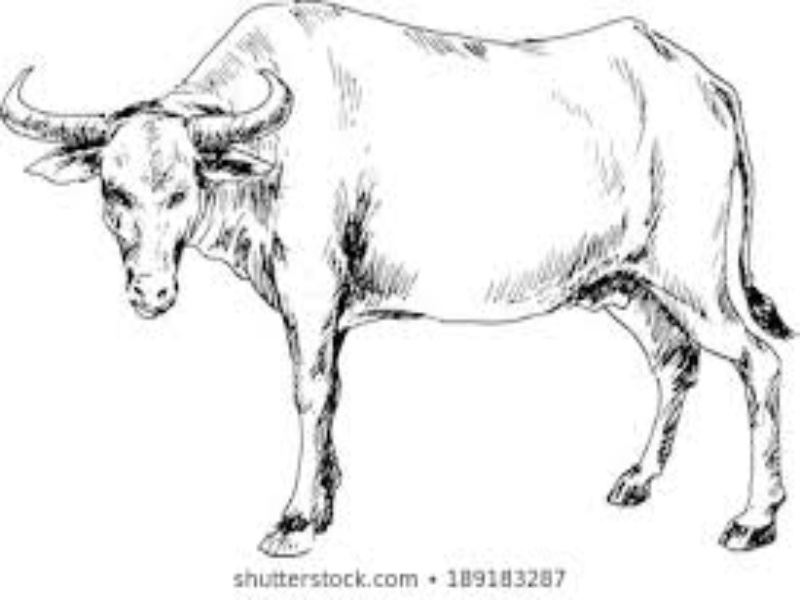buffalo: (15, 3, 786, 560)
